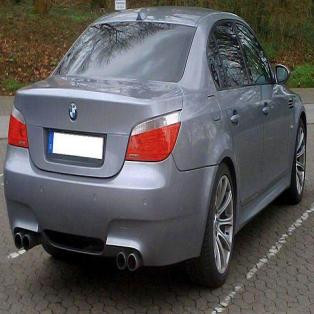Auto: (3, 7, 307, 289)
